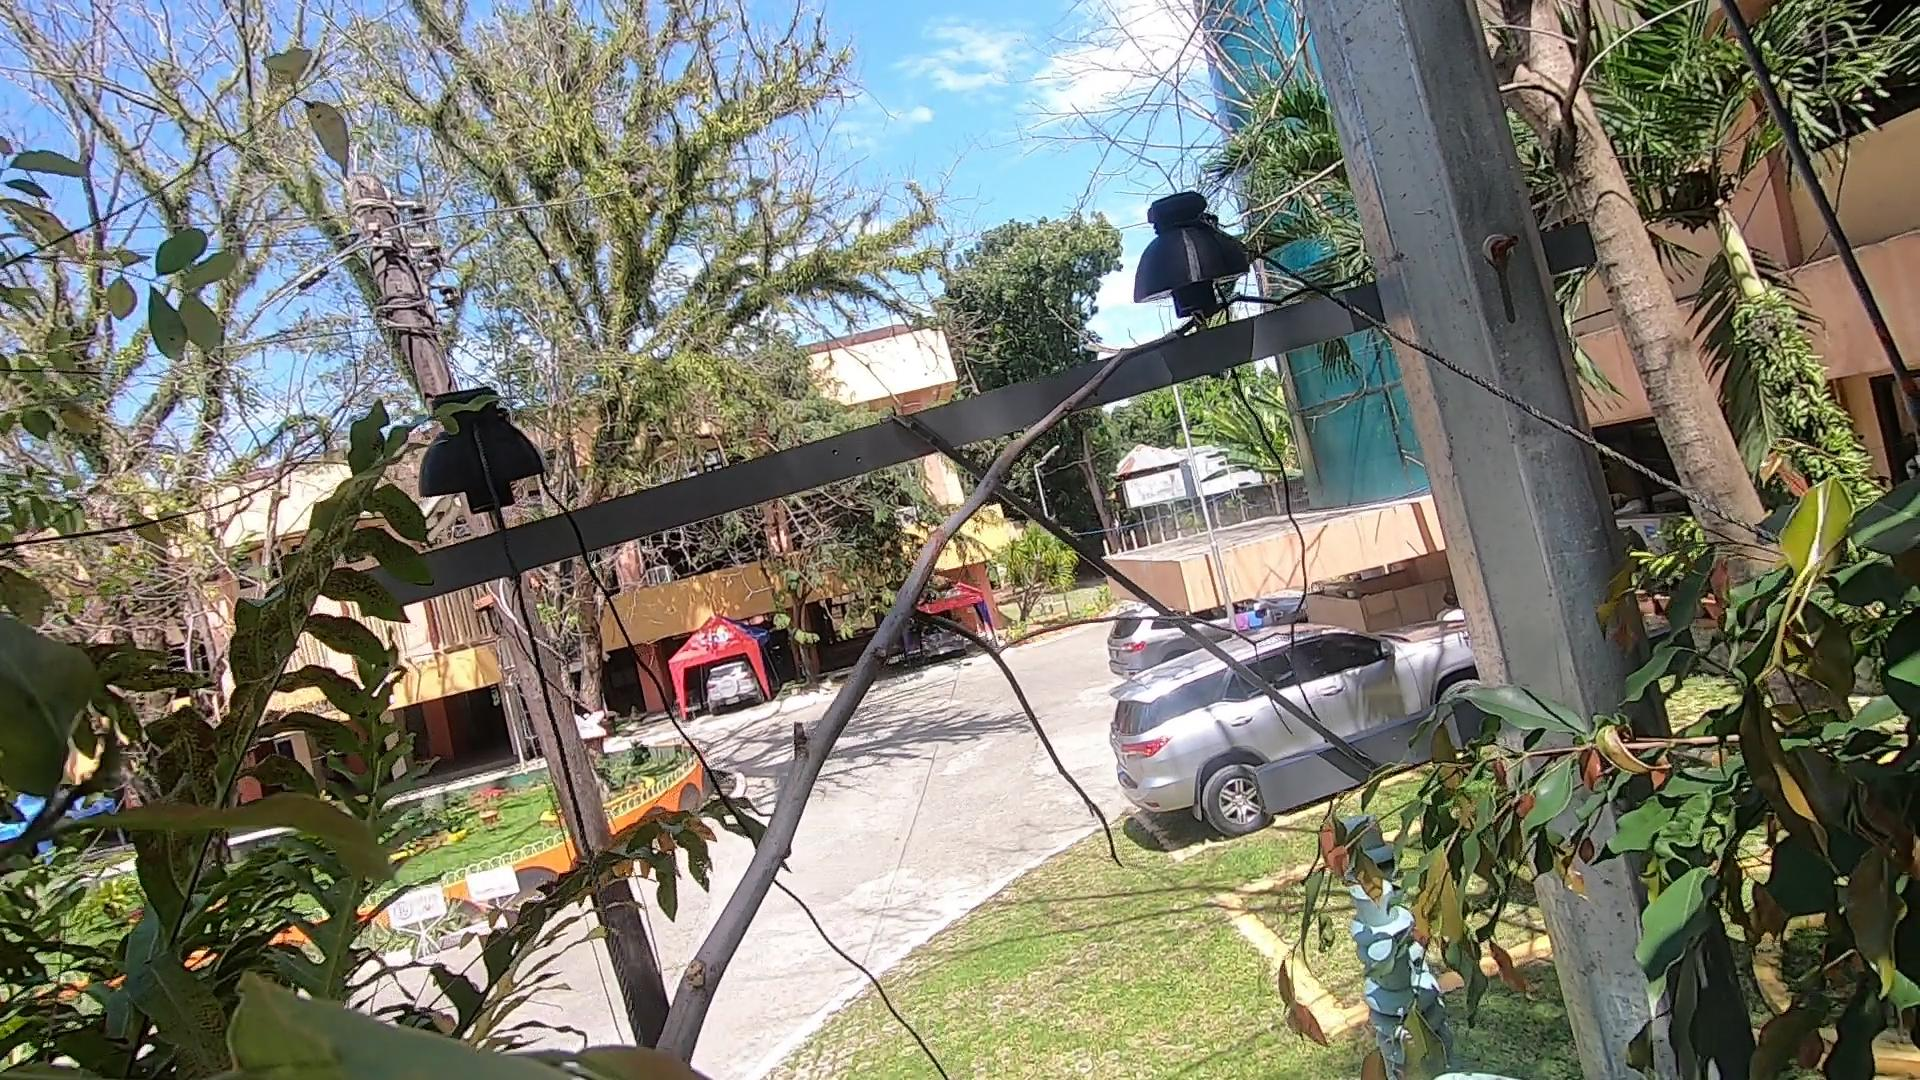branch with leaves: (1143, 657, 1610, 1080)
tree branch: (632, 245, 1325, 1080)
